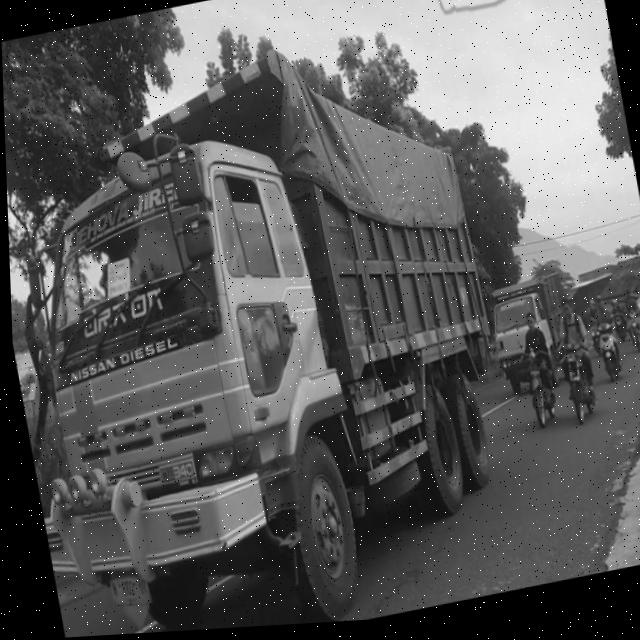truck: (4, 103, 376, 639), (476, 260, 570, 409)
